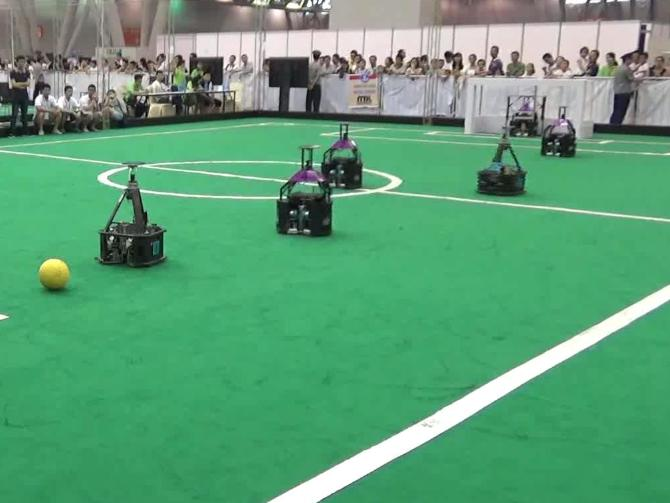robot: (96, 160, 170, 269), (271, 140, 337, 237), (475, 121, 529, 197), (315, 121, 368, 192)
